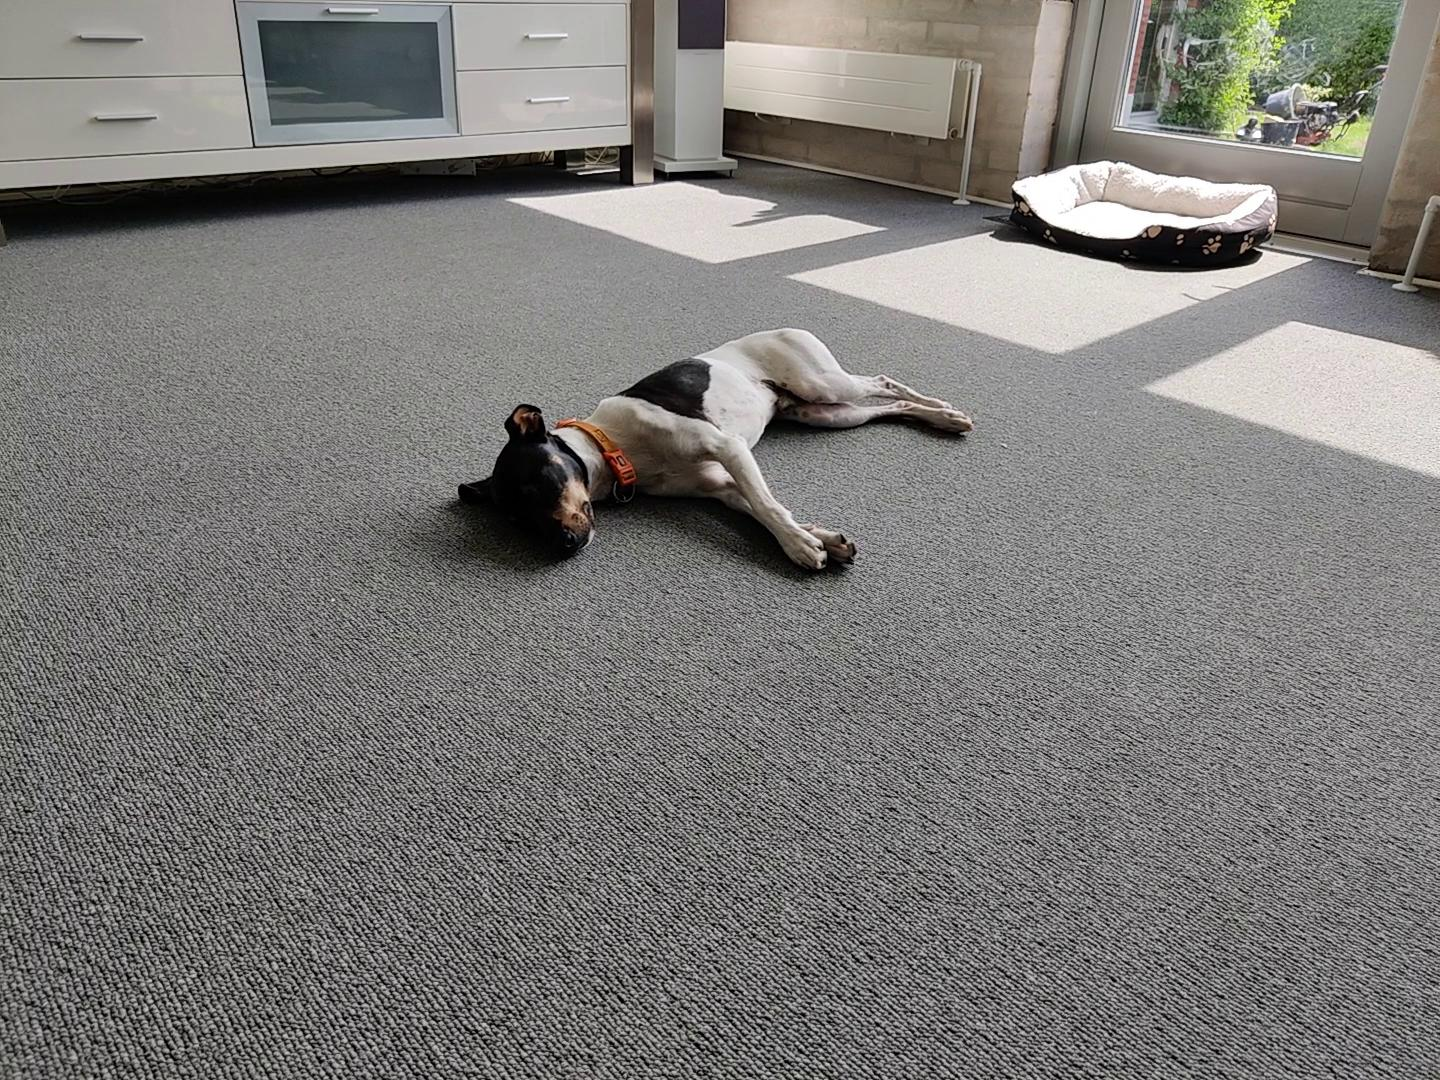Dog: (452, 324, 974, 573)
